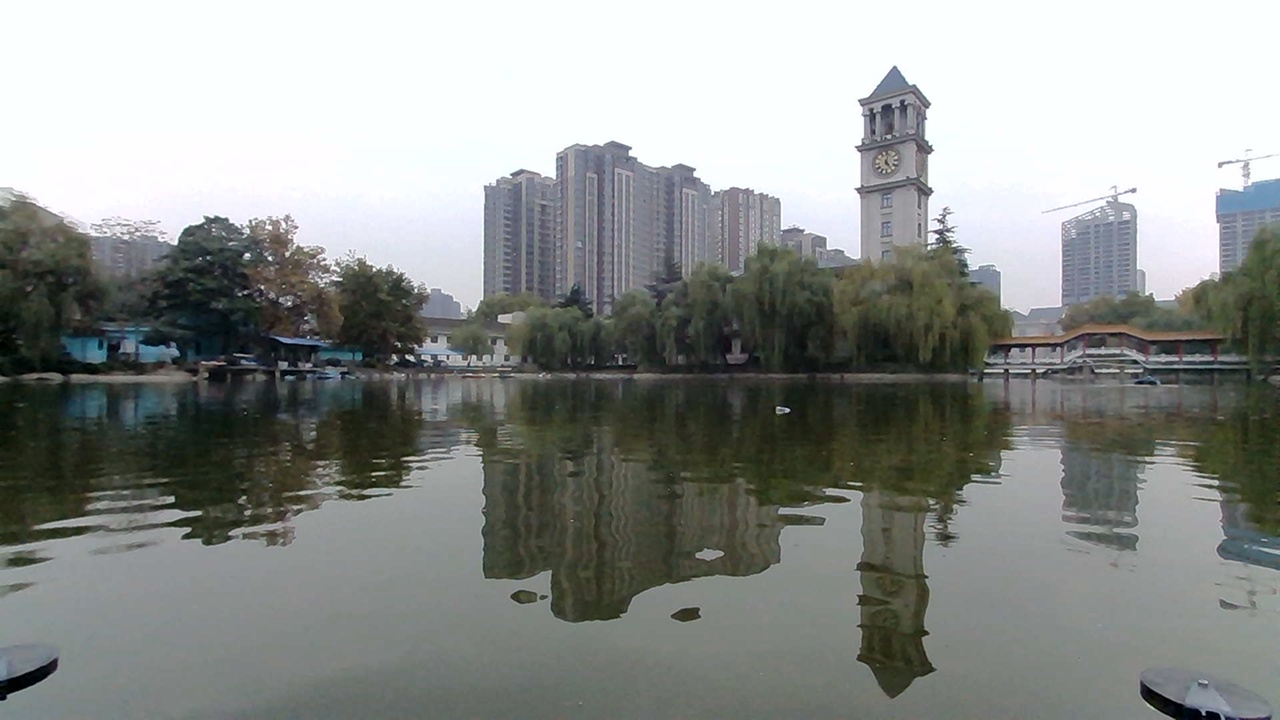bottle: (765, 395, 804, 425)
